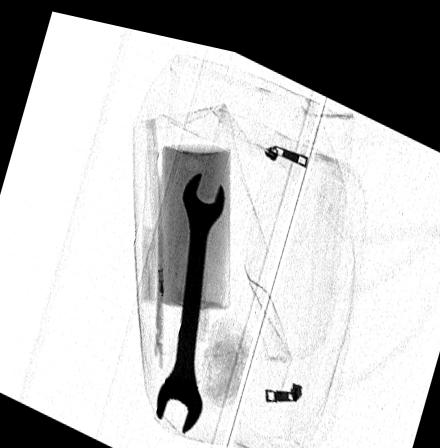Wrench: (155, 159, 225, 423)
